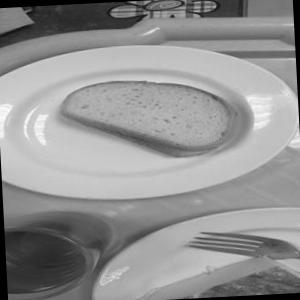bread: (64, 52, 230, 173)
